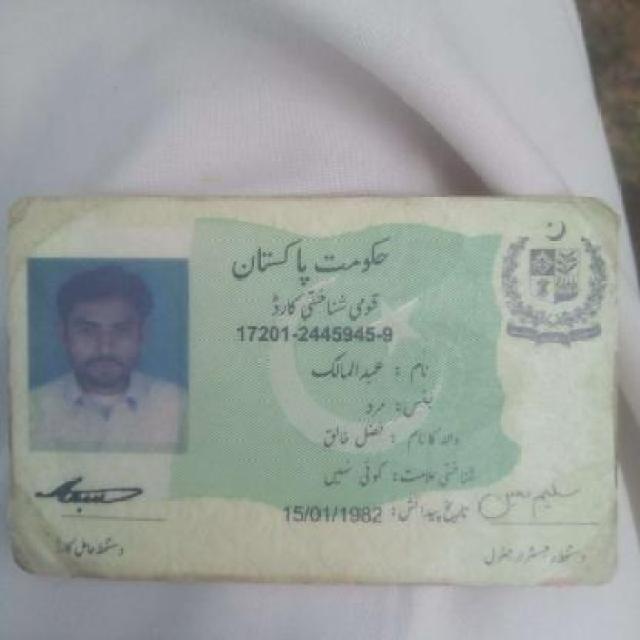Front: (5, 188, 623, 595)
